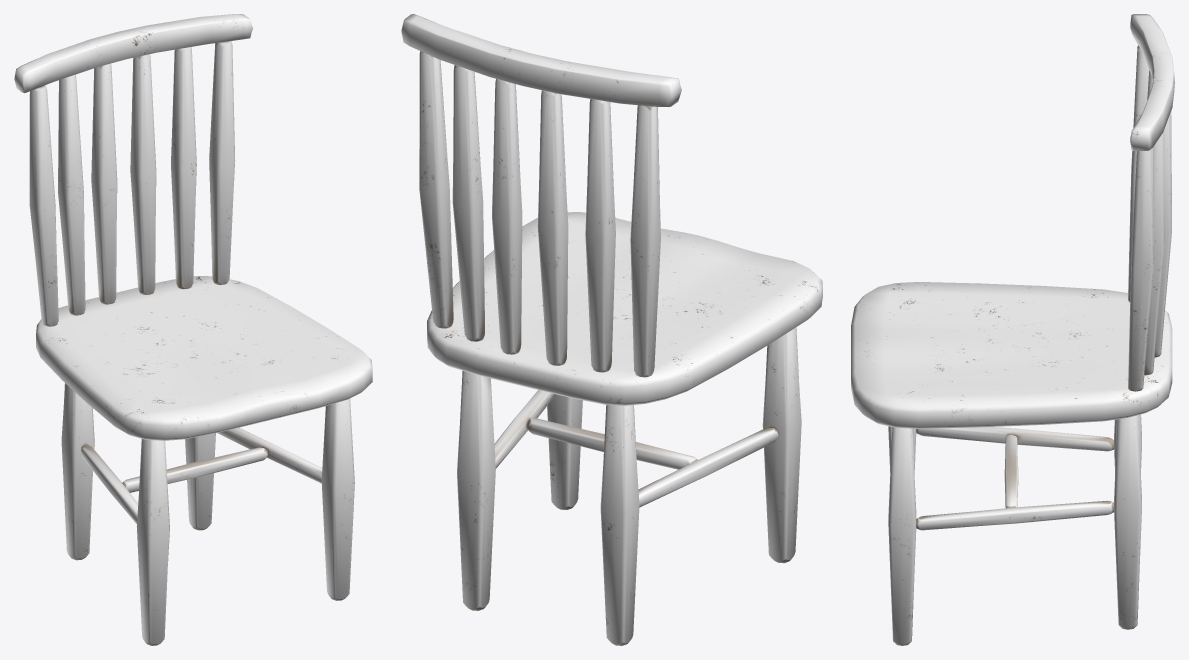
Rendered from Chair.obj.
The picture shows the model from 3 angles, left to right: view 1: azimuth 30°, elevation 25°; view 2: azimuth 150°, elevation 25°; view 3: azimuth 270°, elevation 25°; orthographic projection. The views are drawn at different scales.
Parts seen in each view (by area): view 1: Chair; view 2: Chair; view 3: Chair.
Boxes of the visible parts, bbox=[...] form: Chair: bbox=[14, 14, 372, 645]; Chair: bbox=[401, 14, 822, 645]; Chair: bbox=[851, 14, 1174, 645].
Bounding box in the file's own units: 0.54 × 1.02 × 0.5744.
